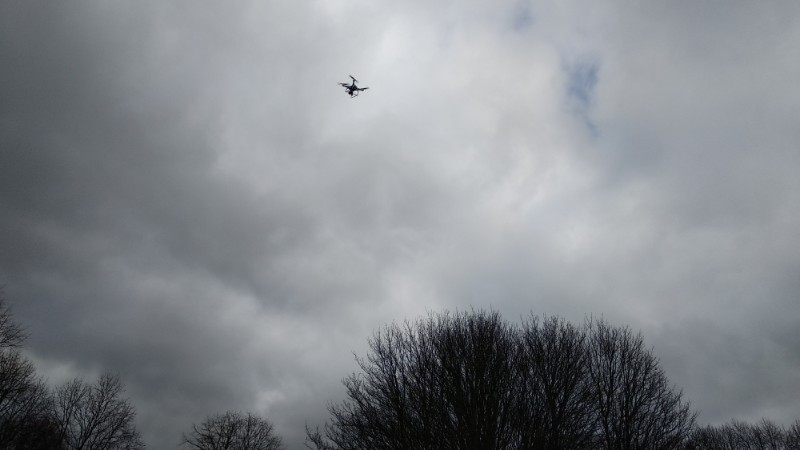drone: (340, 74, 369, 99)
